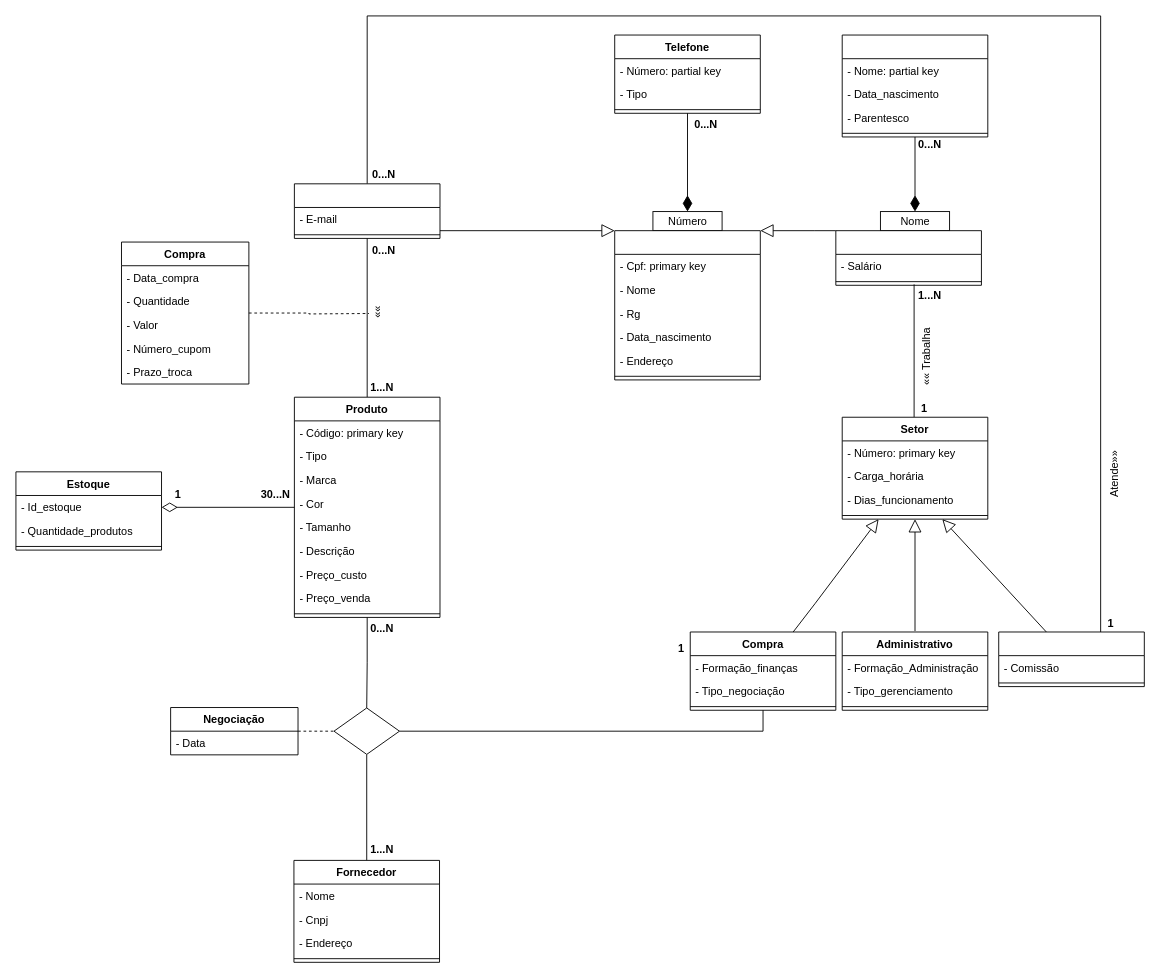
Some shapes in this 1160 by 978 pixel diagram are drawn without their labels. Each missing label, with the box of its shape:
Cliente: (293, 183, 440, 238)
Dependente: (841, 34, 988, 137)
Funcionário: (835, 230, 981, 285)
Negocia: (333, 707, 399, 754)
Pessoa: (614, 230, 760, 380)
Venda: (998, 631, 1144, 687)
